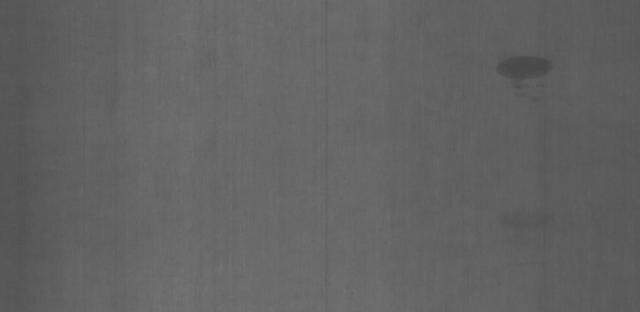oil_spot: (492, 44, 560, 96)
